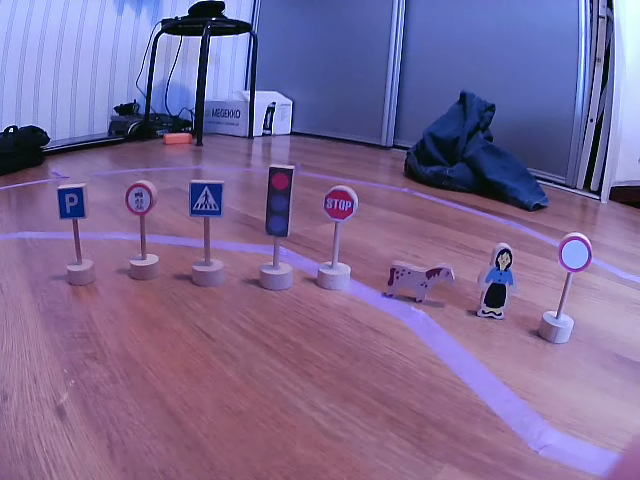fietspad: (128, 181, 152, 213)
mens: (477, 242, 516, 318)
paard: (382, 262, 456, 299)
parkeerbord: (59, 184, 88, 220)
roodlicht: (265, 166, 296, 235)
stopbord: (324, 186, 358, 219)
wegdicht: (558, 235, 595, 273)
zebrapad: (191, 181, 224, 217)
